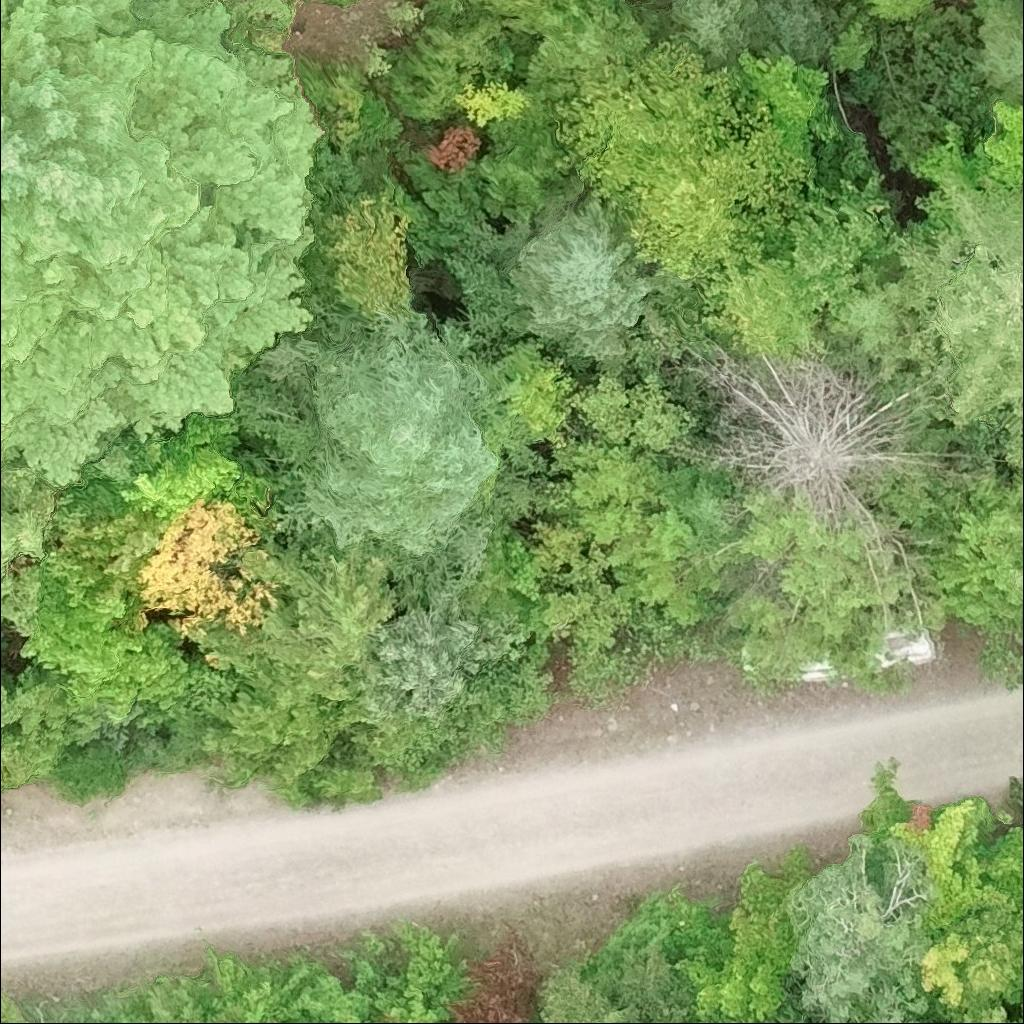crown: (0, 0, 327, 489), (229, 308, 507, 582), (554, 30, 810, 280), (827, 162, 1023, 469), (785, 834, 942, 1023), (358, 559, 529, 730), (489, 194, 656, 365), (36, 480, 171, 679), (675, 840, 807, 1023), (262, 527, 394, 704), (134, 494, 279, 639), (118, 414, 266, 522), (305, 177, 412, 316), (512, 0, 660, 85), (489, 337, 580, 445), (447, 927, 542, 1023), (0, 457, 60, 584), (410, 0, 517, 68), (663, 456, 742, 538), (537, 967, 646, 1023), (385, 45, 468, 117), (985, 466, 1023, 601), (450, 75, 534, 128), (464, 0, 570, 32), (949, 1003, 1023, 1023), (0, 731, 13, 772), (1022, 998, 1023, 1011)
